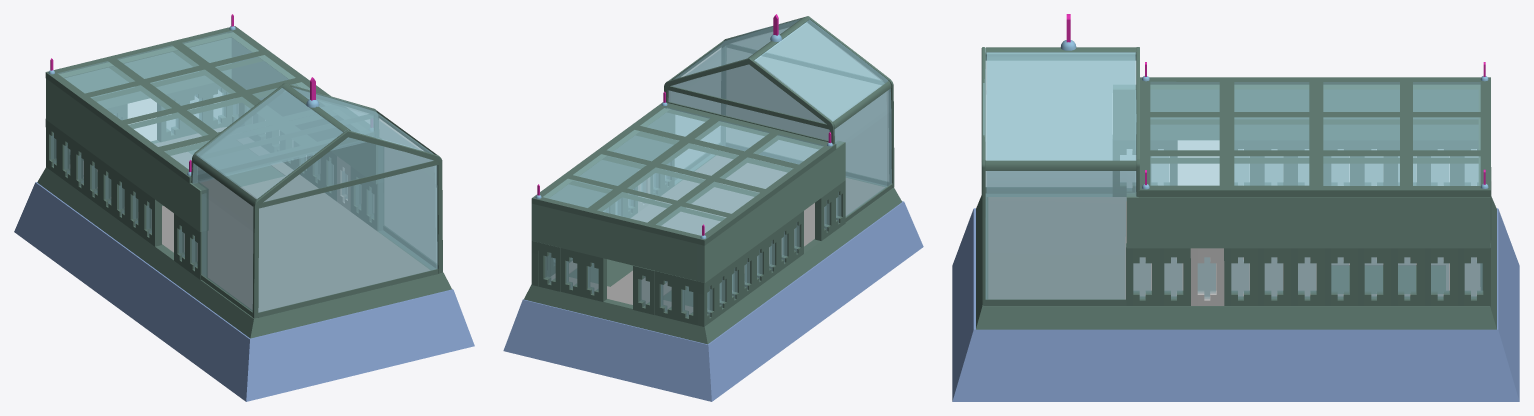
File: TempleStructure.fbx
The picture shows the model from 3 angles, left to right: view 1: azimuth 30°, elevation 25°; view 2: azimuth 150°, elevation 25°; view 3: azimuth 270°, elevation 25°; orthographic projection. The views are drawn at different scales.
Parts seen in each view (by area): view 1: pCube277, Large_Window_Back, Celing, Floor3, Large_Window_R, pCube278, Large_Window_L, Large_Window_Front, TopWall_Right, TopWall_Front, Cube249, TopWall_Right1 (+23 smaller); view 2: Celing, pCube277, Large_Window_Back, Large_Window_R, pCube278, Floor3, TopWall_Front, TopWall_Right, Large_Window_Front, Large_Window_L, TopWall_Right1, Cube249 (+23 smaller); view 3: pCube277, Celing, Large_Window_L, TopWall_Right1, Floor3, Large_Window_R, pCube278, TopWall_Right, Cube250, polySurface1943, polySurface1950, polySurface1952 (+33 smaller).
Part boxes in pixels (x1=…): pCube277: x1=14, y1=182, x2=474, y2=401; Large_Window_Back: x1=258, y1=135, x2=437, y2=312; Celing: x1=45, y1=26, x2=330, y2=183; Floor3: x1=83, y1=127, x2=429, y2=312; Large_Window_R: x1=193, y1=87, x2=345, y2=311; pCube278: x1=37, y1=140, x2=451, y2=338; Large_Window_L: x1=284, y1=88, x2=436, y2=269; Large_Window_Front: x1=192, y1=87, x2=378, y2=183; TopWall_Right: x1=46, y1=78, x2=208, y2=231; TopWall_Front: x1=59, y1=33, x2=231, y2=108; Cube249: x1=252, y1=130, x2=442, y2=318; TopWall_Right1: x1=228, y1=32, x2=378, y2=183; Celing: x1=531, y1=102, x2=836, y2=245; pCube277: x1=503, y1=201, x2=923, y2=401; Large_Window_Back: x1=722, y1=19, x2=891, y2=186; Large_Window_R: x1=754, y1=19, x2=891, y2=216; pCube278: x1=523, y1=155, x2=901, y2=344; Floor3: x1=551, y1=155, x2=884, y2=313; TopWall_Front: x1=539, y1=205, x2=696, y2=280; TopWall_Right: x1=697, y1=141, x2=845, y2=283; Large_Window_Front: x1=668, y1=64, x2=835, y2=143; Large_Window_L: x1=669, y1=19, x2=807, y2=184; TopWall_Right1: x1=531, y1=108, x2=674, y2=242; Cube249: x1=722, y1=16, x2=894, y2=187; pCube277: x1=952, y1=208, x2=1519, y2=401; Celing: x1=1138, y1=77, x2=1490, y2=197; Large_Window_L: x1=986, y1=52, x2=1134, y2=299; TopWall_Right1: x1=1126, y1=192, x2=1490, y2=248; Floor3: x1=988, y1=197, x2=1480, y2=299; Large_Window_R: x1=986, y1=52, x2=1134, y2=196; pCube278: x1=976, y1=194, x2=1496, y2=329; TopWall_Right: x1=1113, y1=84, x2=1480, y2=139; Cube250: x1=985, y1=160, x2=1136, y2=170; polySurface1943: x1=1126, y1=243, x2=1159, y2=305; polySurface1950: x1=1291, y1=248, x2=1324, y2=305; polySurface1952: x1=1324, y1=248, x2=1357, y2=305.
Size of the model in its own units: 22.47 by 24.57 by 39.51.
